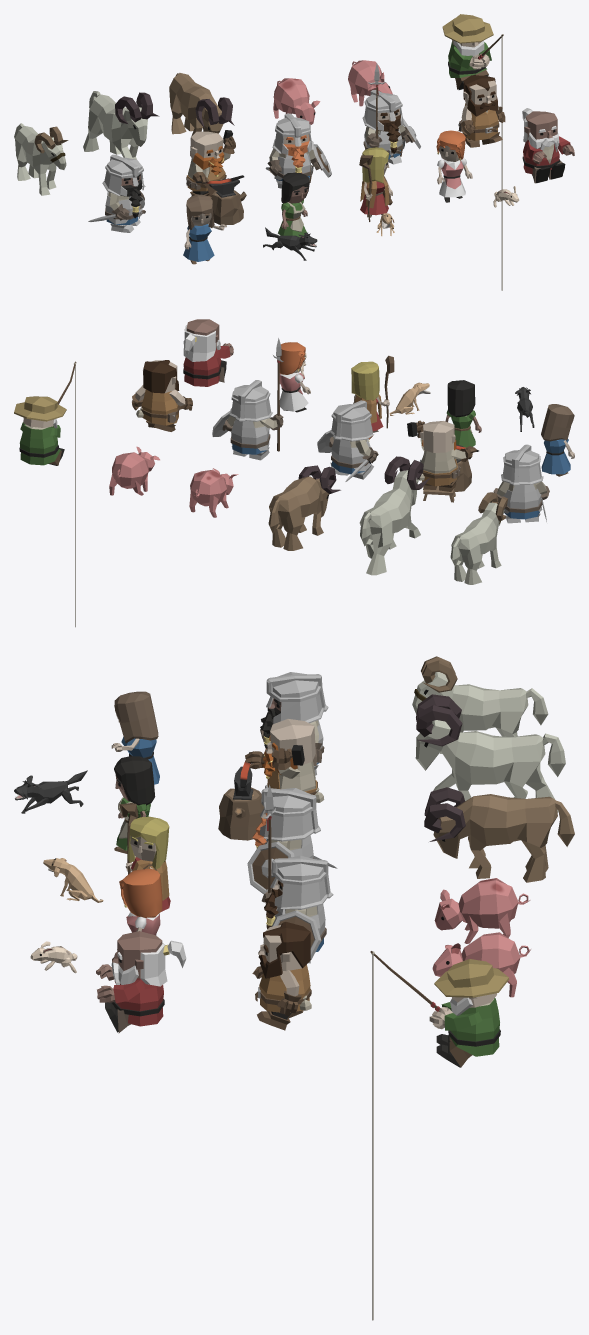
File: low_poly_characters.glb
3 views of the same model, one above another, from view 1: azimuth 30°, elevation 25°; view 2: azimuth 150°, elevation 25°; view 3: azimuth 270°, elevation 25° (orthographic). The views are drawn at different scales.
Visible parts, largest first — view 1: Hammer_GEO, Ram_GEO, Fisher_GEO, Ram_b_GEO, DwarfGuard_GEO4, DwarfGuard_GEO3, DwarfGuard_GEO, polySurface7, Ram_a_GEO, Face_GEO2, Farmer_GEO, FoodMerchant_GEO (+5 smaller); view 2: Ram_GEO, DwarfGuard_GEO, Ram_b_GEO, Hammer_GEO, DwarfGuard_GEO3, Fisher_GEO, DwarfGuard_GEO4, Ram_a_GEO, Face_GEO2, polySurface7, PeasantGirl_GEO, Farmer_GEO (+6 smaller); view 3: Ram_GEO, Ram_b_GEO, Fisher_GEO, Hammer_GEO, polySurface7, DwarfGuard_GEO, Face_GEO2, Ram_a_GEO, DwarfGuard_GEO3, Pig_b_GEO, DwarfGuard_GEO4, Farmer_GEO (+6 smaller).
Boxes of the visible parts, bbox=[...] form: Hammer_GEO: bbox=[186, 130, 246, 225]; Ram_GEO: bbox=[83, 91, 159, 159]; Fisher_GEO: bbox=[442, 14, 503, 290]; Ram_b_GEO: bbox=[169, 73, 234, 140]; DwarfGuard_GEO4: bbox=[88, 154, 145, 232]; DwarfGuard_GEO3: bbox=[265, 113, 331, 188]; DwarfGuard_GEO: bbox=[362, 63, 420, 164]; polySurface7: bbox=[522, 108, 574, 183]; Ram_a_GEO: bbox=[14, 123, 68, 195]; Face_GEO2: bbox=[458, 75, 505, 147]; Farmer_GEO: bbox=[359, 147, 392, 221]; FoodMerchant_GEO: bbox=[436, 130, 472, 202]; Ram_GEO: bbox=[359, 456, 429, 575]; DwarfGuard_GEO: bbox=[212, 338, 283, 460]; Ram_b_GEO: bbox=[268, 465, 340, 550]; Hammer_GEO: bbox=[407, 420, 478, 502]; DwarfGuard_GEO3: bbox=[317, 400, 378, 481]; Fisher_GEO: bbox=[14, 361, 76, 627]; DwarfGuard_GEO4: bbox=[493, 444, 549, 523]; Ram_a_GEO: bbox=[450, 492, 507, 584]; Face_GEO2: bbox=[132, 360, 192, 431]; polySurface7: bbox=[183, 319, 233, 386]; PeasantGirl_GEO: bbox=[541, 404, 574, 476]; Farmer_GEO: bbox=[351, 355, 394, 432]; Ram_GEO: bbox=[415, 694, 565, 812]; Ram_b_GEO: bbox=[424, 787, 574, 882]; Fisher_GEO: bbox=[370, 951, 509, 1320]; Hammer_GEO: bbox=[218, 719, 324, 840]; polySurface7: bbox=[96, 931, 186, 1033]; DwarfGuard_GEO: bbox=[261, 784, 333, 963]; Face_GEO2: bbox=[252, 922, 311, 1030]; Ram_a_GEO: bbox=[412, 656, 548, 753]; DwarfGuard_GEO3: bbox=[247, 788, 337, 894]; Pig_b_GEO: bbox=[434, 878, 530, 943]; DwarfGuard_GEO4: bbox=[260, 672, 328, 775]; Farmer_GEO: bbox=[119, 803, 170, 911].
Size of the model in its own units: 10.27 by 6.23 by 7.49.
4 materials, 4 textured.
